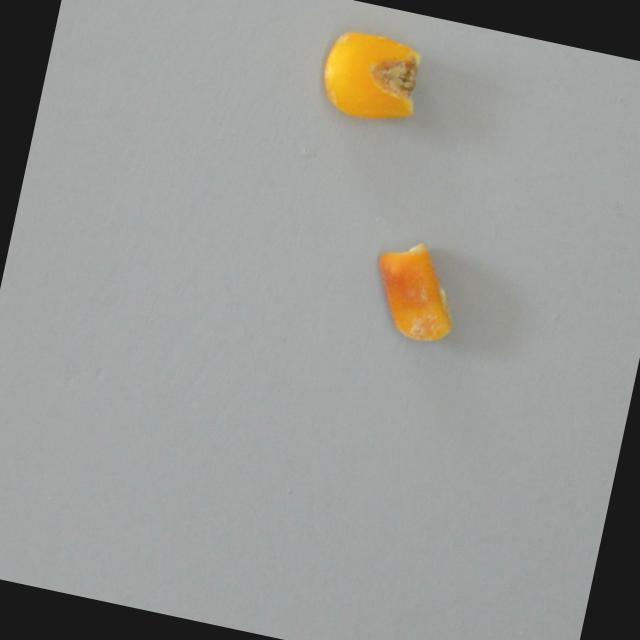dañado: (314, 12, 430, 136), (359, 228, 471, 352)
